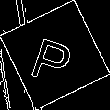P_N: (29, 25, 81, 85)
